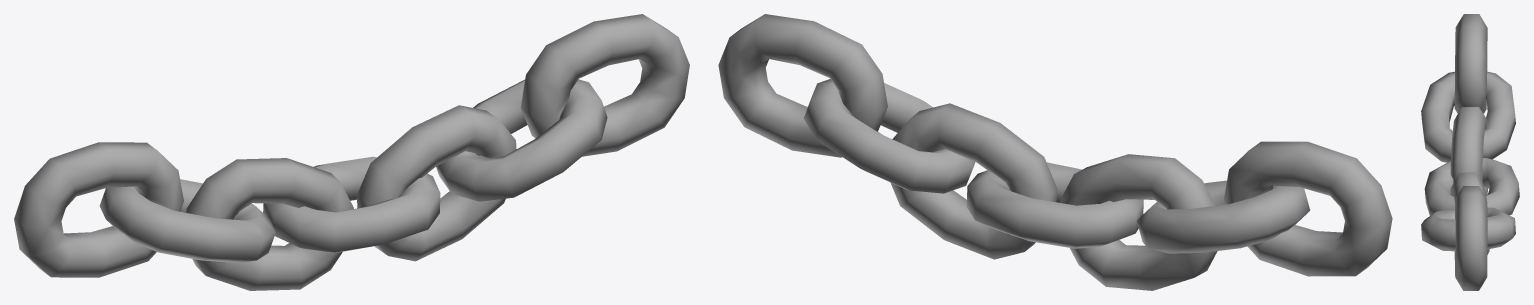
File: Prisoner_handcuff_chain.fbx
The picture shows the model from 3 angles, left to right: view 1: azimuth 30°, elevation 25°; view 2: azimuth 150°, elevation 25°; view 3: azimuth 270°, elevation 25°; orthographic projection. The views are drawn at different scales.
Parts seen in each view (by area): view 1: Prisoner_handcuff_chain; view 2: Prisoner_handcuff_chain; view 3: Prisoner_handcuff_chain.
Part boxes in pixels (left/top/right/bottom): Prisoner_handcuff_chain: left=14, top=14, right=689, bottom=290; Prisoner_handcuff_chain: left=718, top=14, right=1392, bottom=290; Prisoner_handcuff_chain: left=1421, top=14, right=1519, bottom=290.
Bounding box in the file's own units: 0.3518 × 0.0936 × 0.0657.
